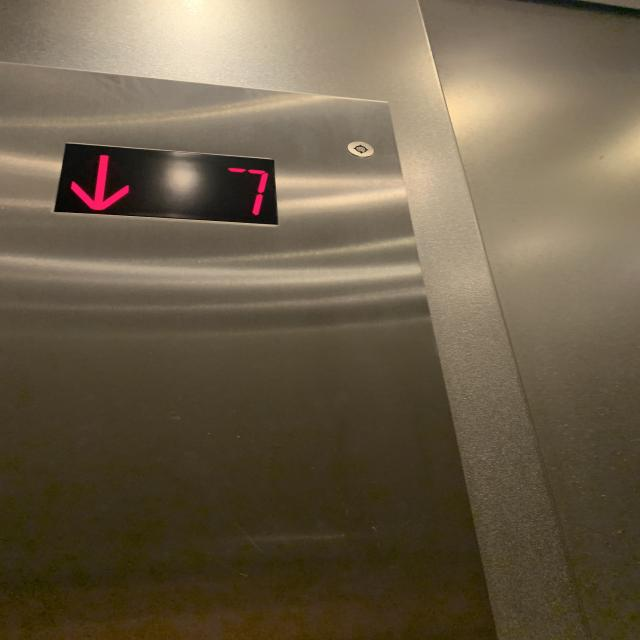box: (53, 138, 289, 232)
